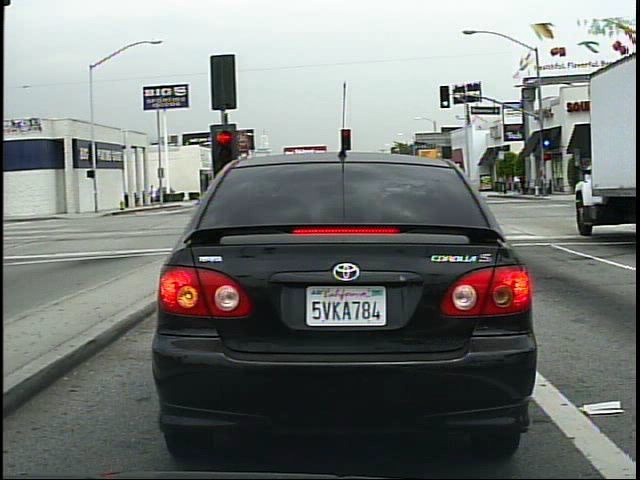person: (518, 171, 529, 197), (151, 181, 160, 208)
